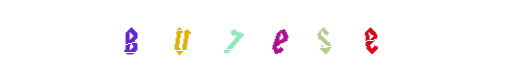7: (224, 0, 304, 80)
B: (91, 0, 171, 80)
E: (225, 0, 305, 80), (331, 0, 411, 80)
S: (248, 0, 328, 80)
V: (142, 0, 222, 80)
